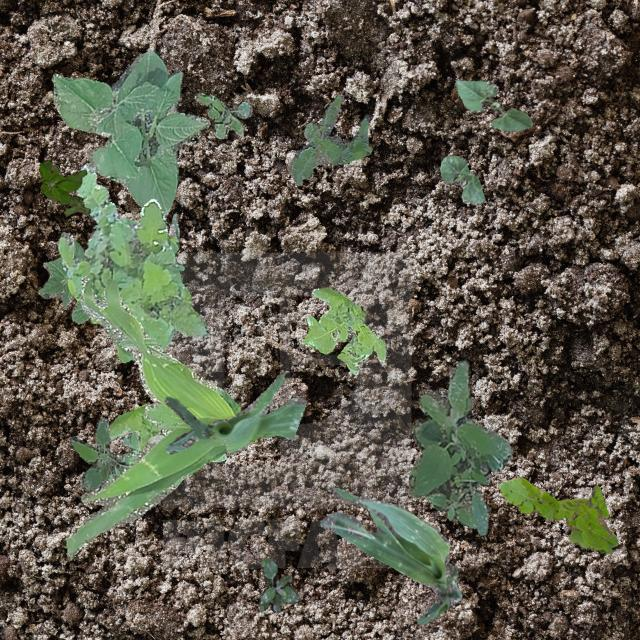crop: (50, 48, 208, 215), (318, 486, 461, 624), (164, 372, 306, 452), (38, 238, 112, 338), (454, 80, 532, 130), (118, 212, 184, 270), (439, 154, 484, 203)
weed: (64, 274, 240, 558), (56, 162, 208, 362), (408, 360, 511, 534), (498, 476, 616, 552), (286, 94, 372, 184), (106, 404, 225, 464), (301, 287, 384, 373), (68, 416, 128, 491), (194, 91, 252, 138), (39, 160, 90, 213), (258, 556, 298, 612), (104, 431, 140, 482)
